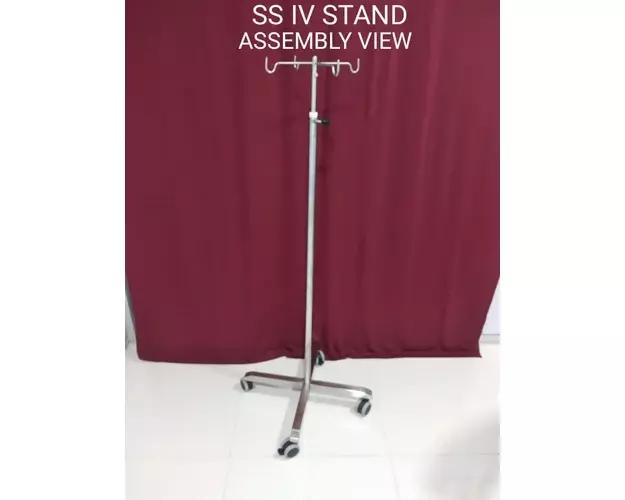Saline Stand: (238, 53, 373, 457)
